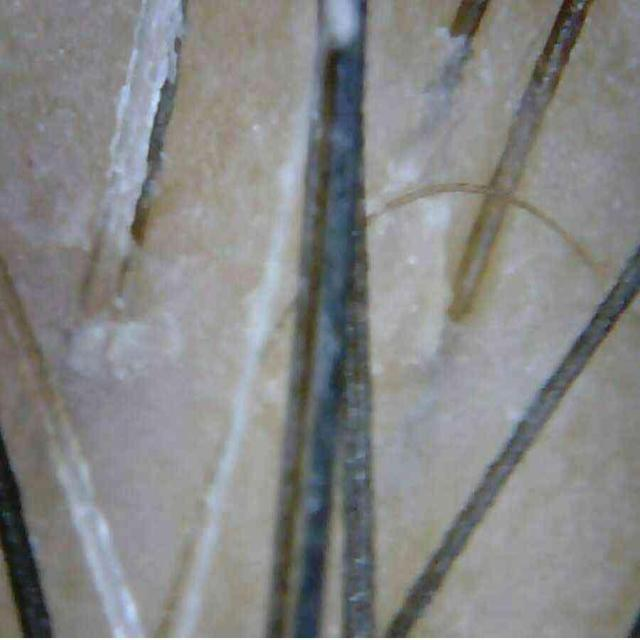d: (326, 0, 358, 46)
